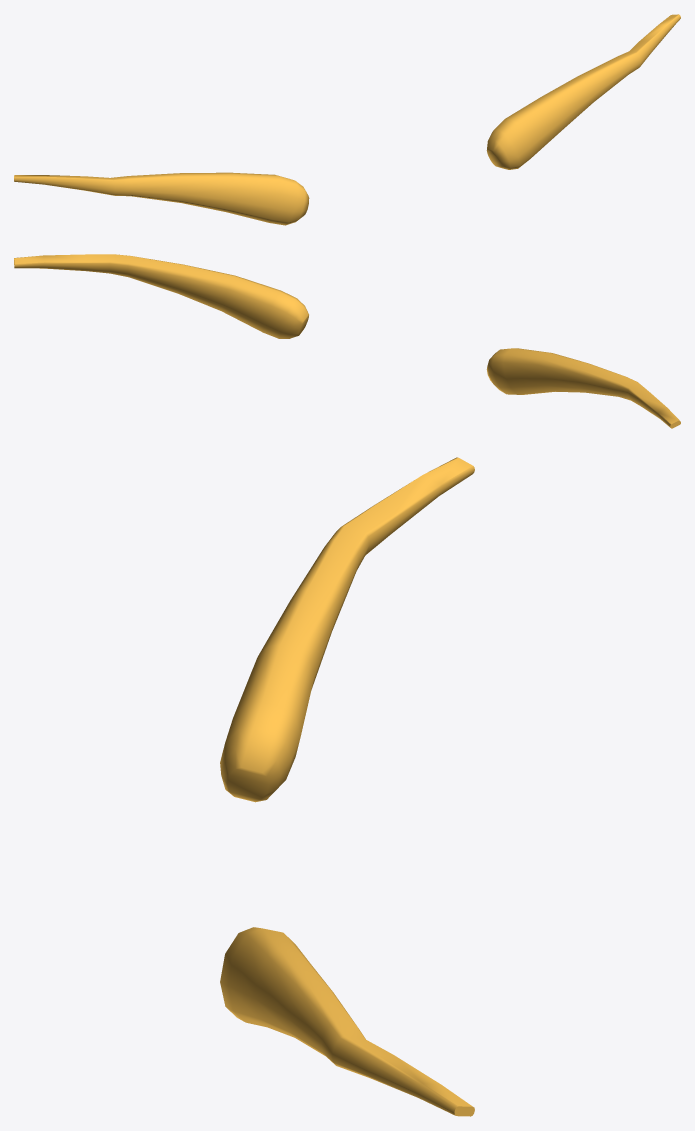
Rendered from Eyebrows_25_05.fbx.
3 views of the same model, one above another, from view 1: azimuth 30°, elevation 25°; view 2: azimuth 150°, elevation 25°; view 3: azimuth 270°, elevation 25° (orthographic). The views are drawn at different scales.
Parts seen in each view (by area): view 1: Eyebrows_25_05; view 2: Eyebrows_25_05; view 3: Eyebrows_25_05.
Part boxes in pixels (bbox=[...]): Eyebrows_25_05: bbox=[14, 14, 680, 225]; Eyebrows_25_05: bbox=[14, 254, 680, 428]; Eyebrows_25_05: bbox=[220, 457, 474, 1116].
Size of the model in its own units: 17.7 by 1.64 by 2.93.
